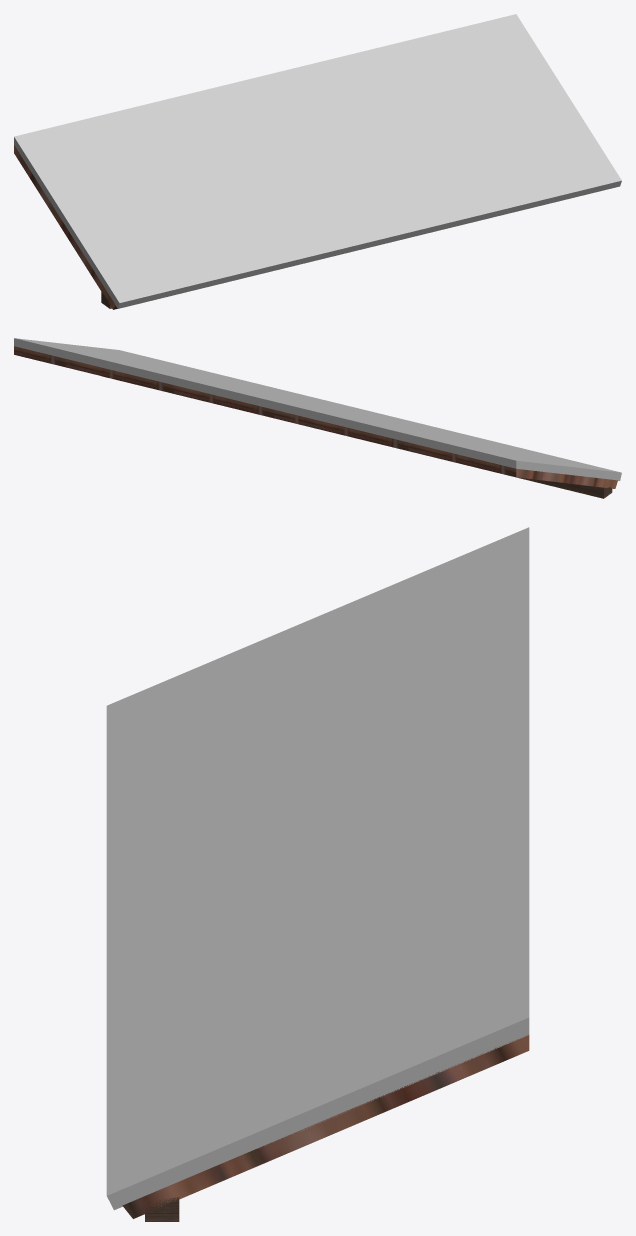
Rendered from kawara_2x1t_middle.fbx.
3 renders of one model, top to bottom at view 1: azimuth 30°, elevation 25°; view 2: azimuth 150°, elevation 25°; view 3: azimuth 270°, elevation 25°, orthographic. The views are drawn at different scales.
Visible parts, largest first — view 1: kawara_2x1t_middle; view 2: kawara_2x1t_middle; view 3: kawara_2x1t_middle.
Part boxes in pixels (bbox=[...]): kawara_2x1t_middle: bbox=[14, 14, 621, 309]; kawara_2x1t_middle: bbox=[14, 338, 621, 498]; kawara_2x1t_middle: bbox=[106, 527, 529, 1221].
Bounding box in the file's own units: 440 × 85.54 × 160.
